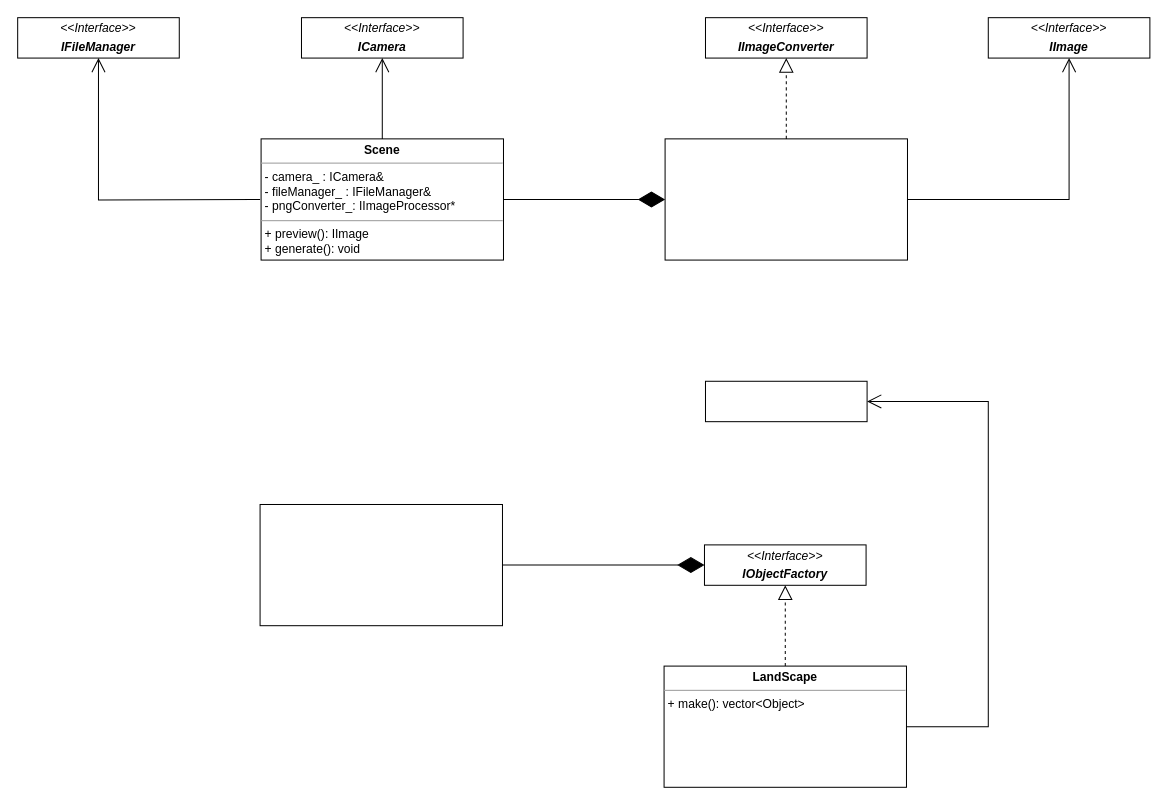
This 1168x805 diagram has some shape labels left out. Here are the shapes that lost their labels. From the top down, the centre of each, then its label:
At point (785, 199): "PngCreator + convert(image: IImage*): IImage*".
At point (785, 401): "<<Interface>> IObject".
At point (380, 564): "ObjectPlacer + LandScape_: IObjectFactory + makeLandScape(): Type".
